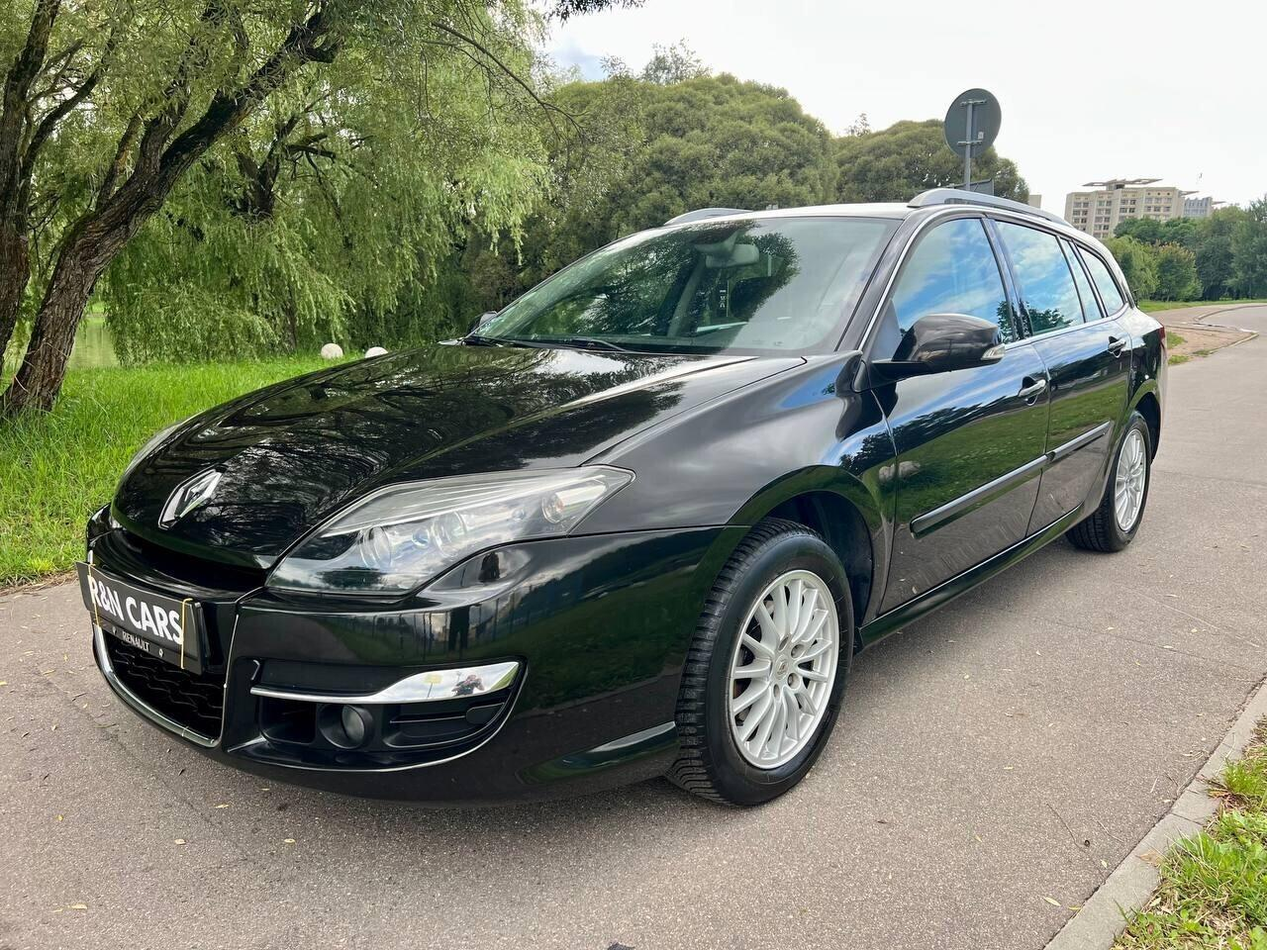Laguna_2010-2015: (74, 184, 1174, 814)
